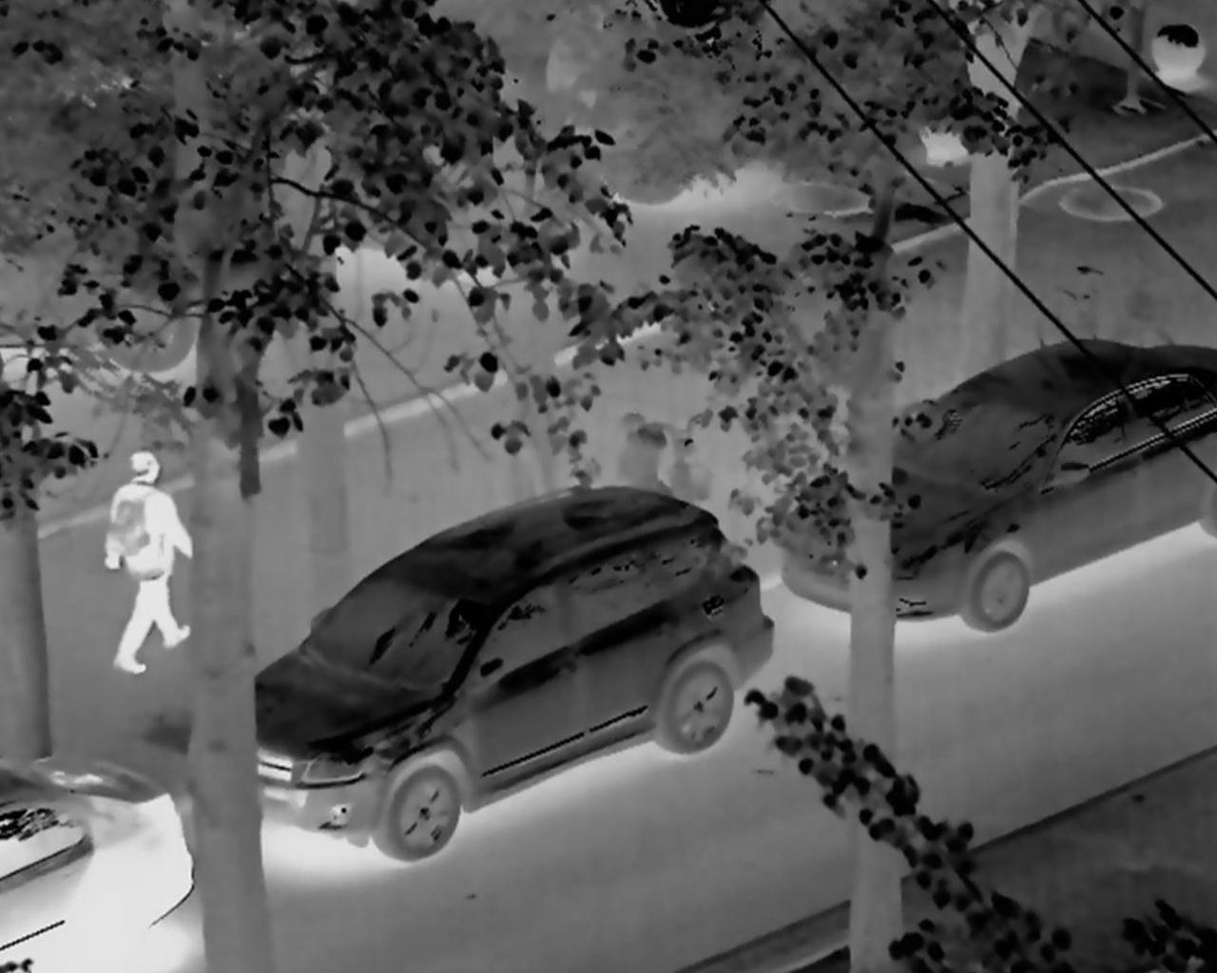person: (85, 433, 201, 677)
